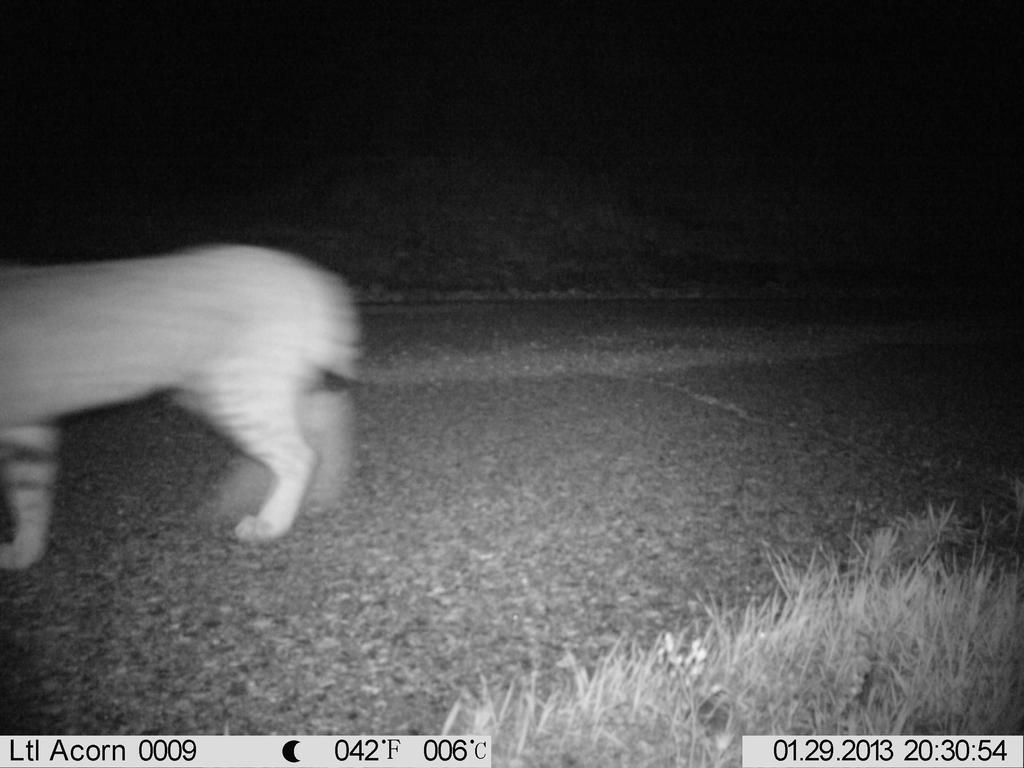bobcat: (1, 234, 372, 573)
